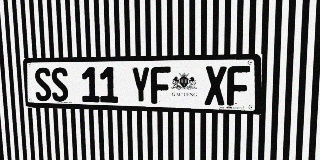1: (99, 67, 118, 103), (81, 67, 100, 102)
F: (227, 66, 250, 106), (151, 66, 171, 104)
S: (50, 67, 69, 102), (34, 67, 52, 101)
X: (205, 66, 227, 105)
Y: (131, 67, 150, 104)
